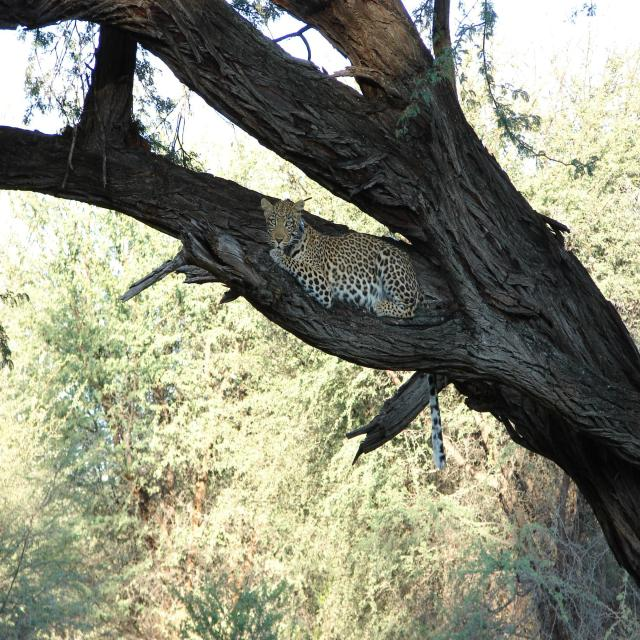Leopard: (273, 189, 444, 436)
